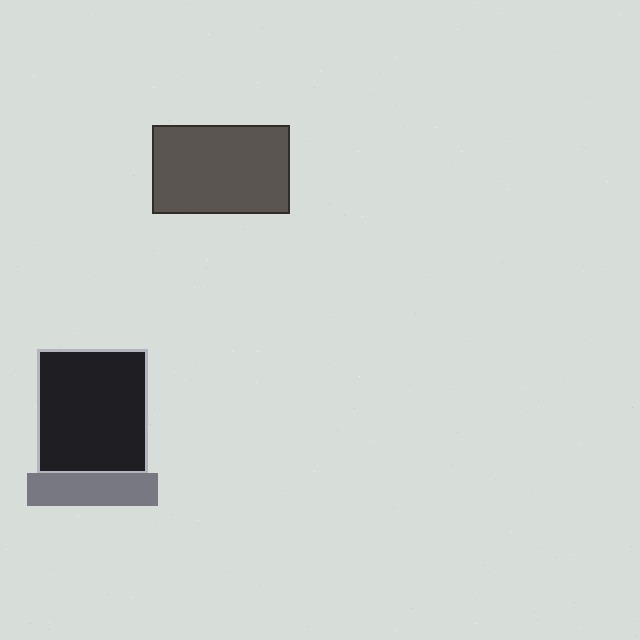concrete_damage: (152, 125, 289, 213)
laptop: (37, 349, 147, 505)
